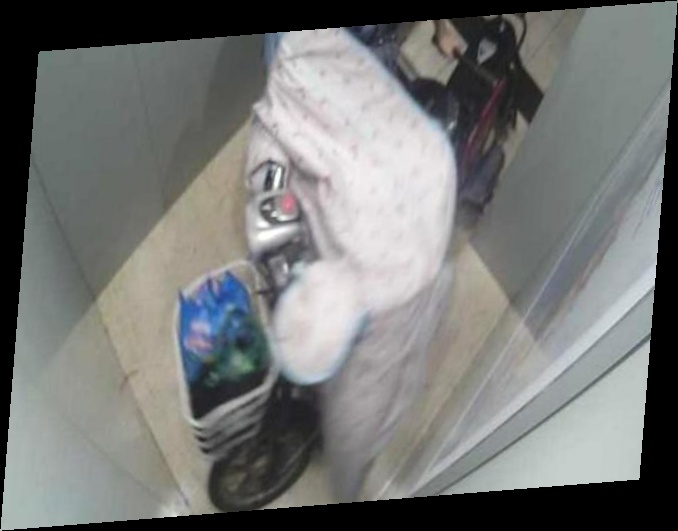electromobile: (185, 26, 568, 515)
